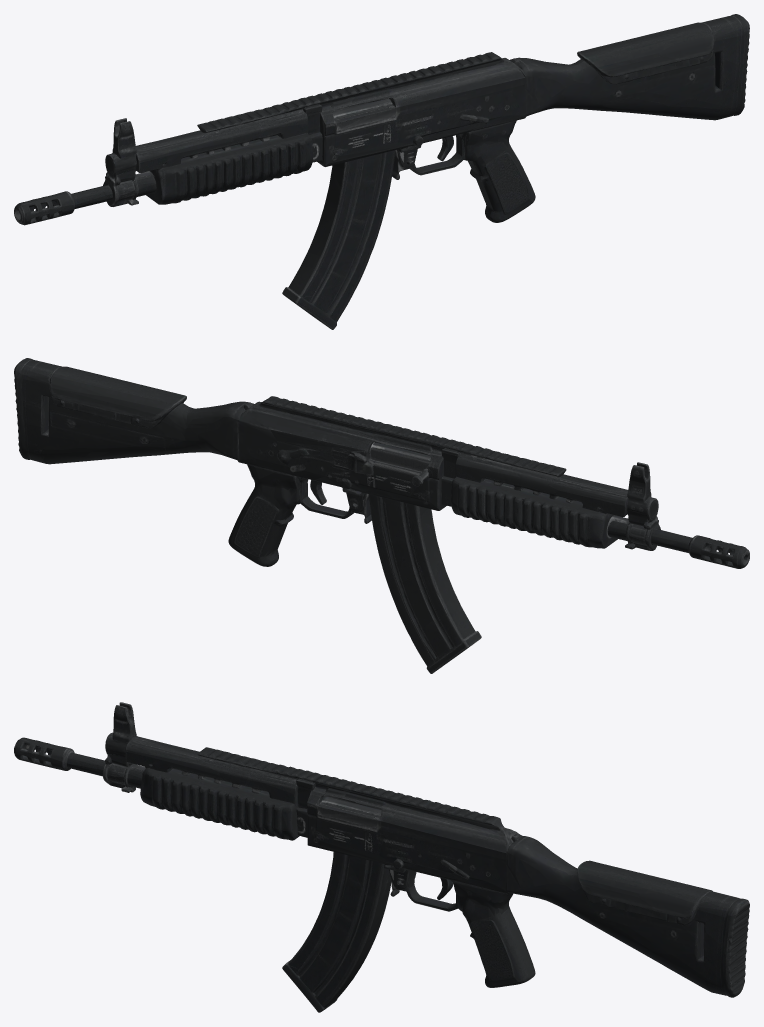
Rendered from saiga.glb.
3 renders of one model, top to bottom at view 1: azimuth 30°, elevation 25°; view 2: azimuth 150°, elevation 25°; view 3: azimuth 330°, elevation 25°, orthographic.
Size of the model in its own units: 1.9 by 0.6349 by 0.1488.
Materials: 1 (1 with a texture image).
